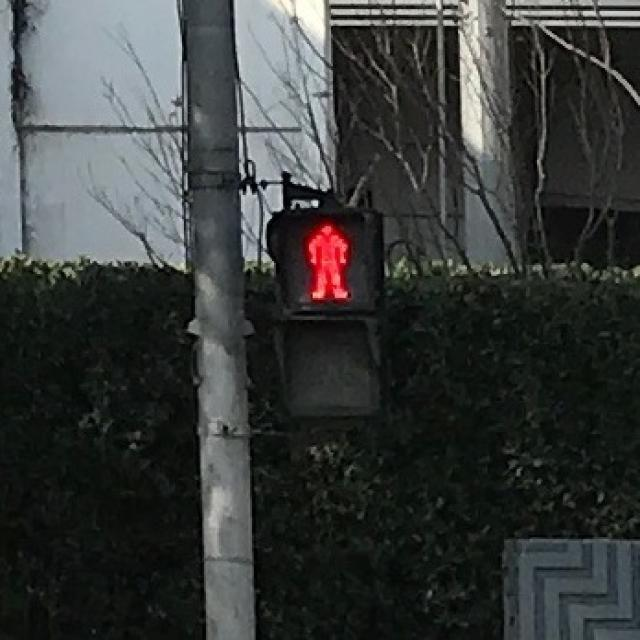red-crossing: (278, 208, 370, 308)
